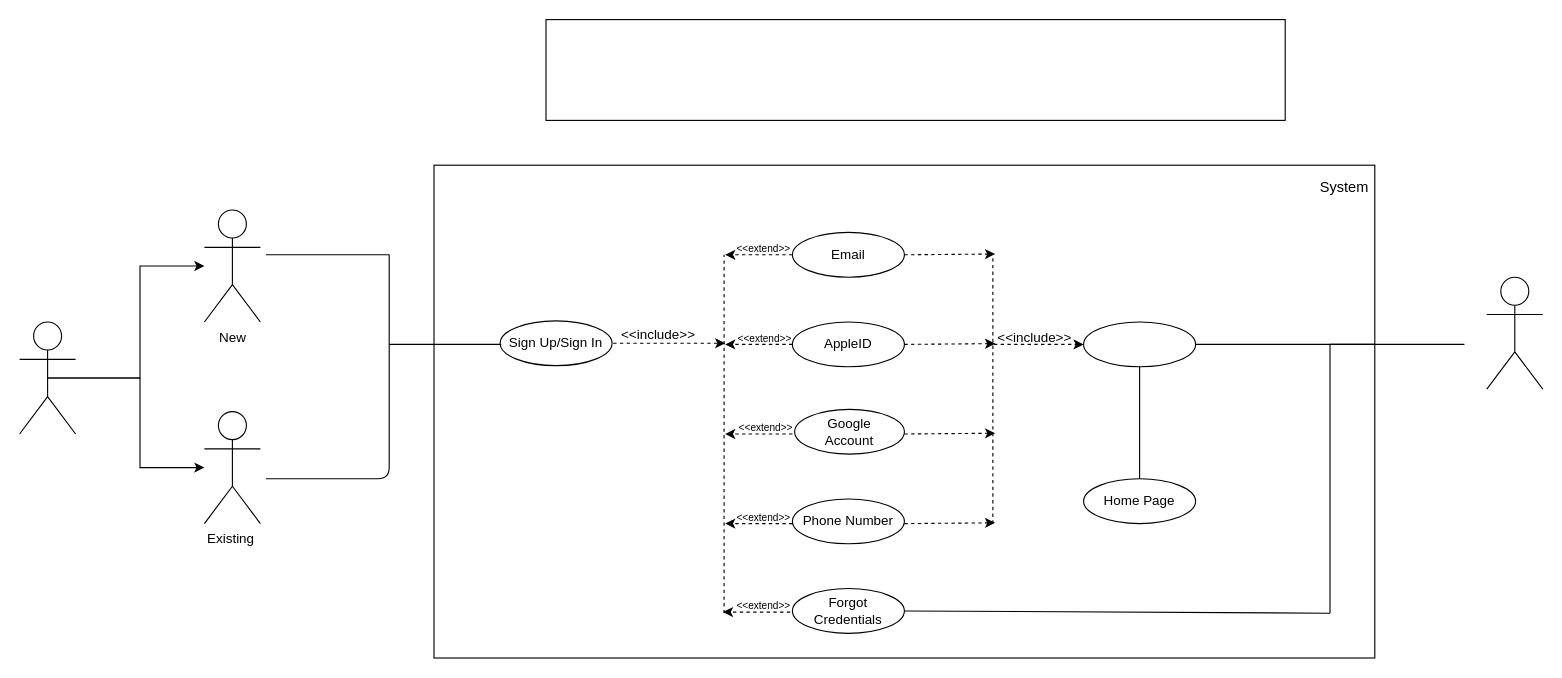
Image size: 1562x678. Some labels were removed from this diagram. The box of each missing label's shape, as (x1, y1, x2, y2) in pixels:
Authentication: (1082, 321, 1196, 367)
Database: (1486, 276, 1543, 389)
Login/Register Use-Case Diagram: (545, 18, 1285, 120)
User: (18, 321, 76, 434)
